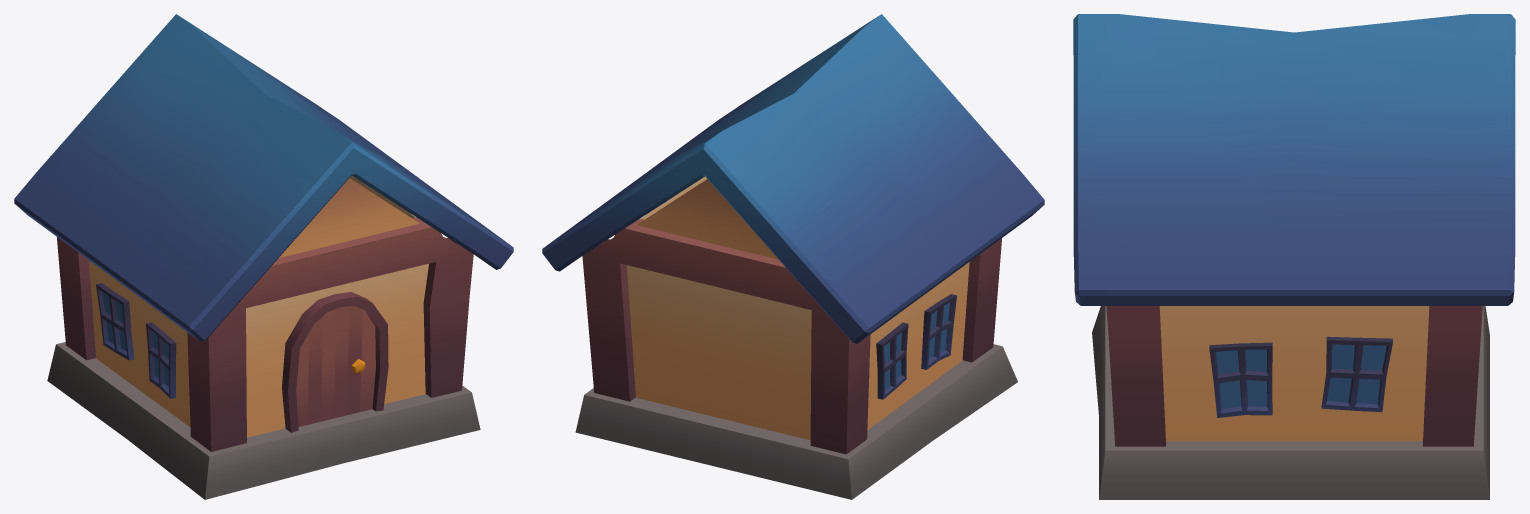
File: House_Blue.obj
3 views of the same model, side by side, from view 1: azimuth 30°, elevation 25°; view 2: azimuth 150°, elevation 25°; view 3: azimuth 270°, elevation 25° (orthographic). The views are drawn at different scales.
Parts seen in each view (by area): view 1: {mesh}House_Blue_Sphere.003; view 2: {mesh}House_Blue_Sphere.003; view 3: {mesh}House_Blue_Sphere.003.
Boxes of the visible parts, x1,y1,x2,y2 form: {mesh}House_Blue_Sphere.003: [14, 14, 513, 499]; {mesh}House_Blue_Sphere.003: [542, 14, 1044, 499]; {mesh}House_Blue_Sphere.003: [1073, 14, 1515, 499].
Bounding box in the file's own units: 198 × 190 × 189.
